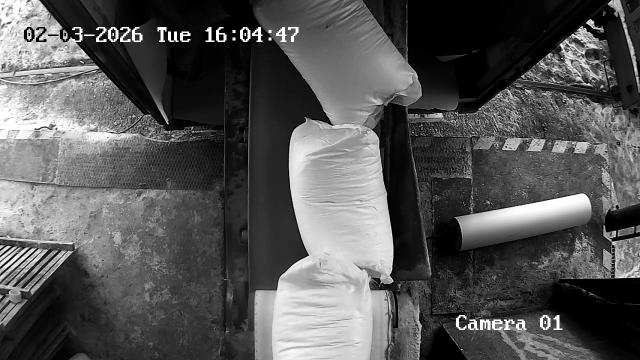bag: (253, 0, 422, 138), (288, 118, 393, 284), (272, 254, 372, 360)
